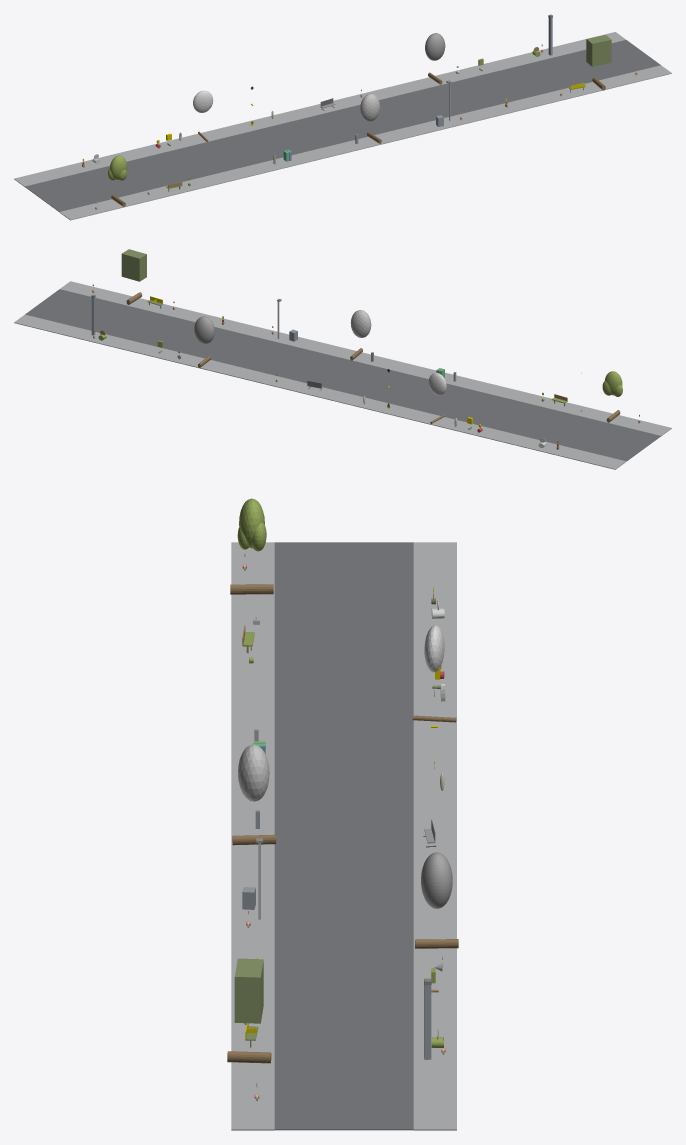
3 views of the same model, one above another, from view 1: azimuth 30°, elevation 25°; view 2: azimuth 150°, elevation 25°; view 3: azimuth 270°, elevation 25° (orthographic). The views are drawn at different scales.
Parts seen in each view (by area): view 1: road_slab, sidewalk_left, sidewalk_right, inst_0016, inst_0014, inst_0015, inst_0012, inst_0013; view 2: road_slab, sidewalk_right, sidewalk_left, inst_0016, inst_0014, inst_0015, inst_0012, inst_0013; view 3: road_slab, sidewalk_right, sidewalk_left, inst_0016, inst_0015, inst_0014, inst_0012, inst_0013.
Boxes of the visible parts, box(x1,y1,x2,y2) form: road_slab: box(25, 40, 660, 211); sidewalk_left: box(59, 65, 671, 220); sidewalk_right: box(14, 32, 625, 186); inst_0016: box(586, 35, 611, 90); inst_0014: box(360, 93, 381, 143); inst_0015: box(425, 33, 445, 84); inst_0012: box(108, 155, 127, 206); inst_0013: box(193, 90, 213, 141); road_slab: box(25, 289, 660, 461); sidewalk_right: box(14, 314, 626, 469); sidewalk_left: box(60, 281, 671, 436); inst_0016: box(121, 249, 146, 304); inst_0014: box(350, 310, 371, 360); inst_0015: box(194, 316, 214, 367); inst_0012: box(602, 371, 622, 422); inst_0013: box(428, 372, 446, 423); road_slab: box(274, 542, 413, 1130); sidewalk_right: box(413, 542, 456, 1130); sidewalk_left: box(231, 542, 274, 1130); inst_0016: box(227, 958, 271, 1063); inst_0015: box(415, 852, 458, 948); inst_0014: box(232, 744, 276, 845); inst_0012: box(230, 498, 273, 594); inst_0013: box(412, 625, 456, 722).
Bounding box in the file's own units: 80 × 6.08 × 13.32.
